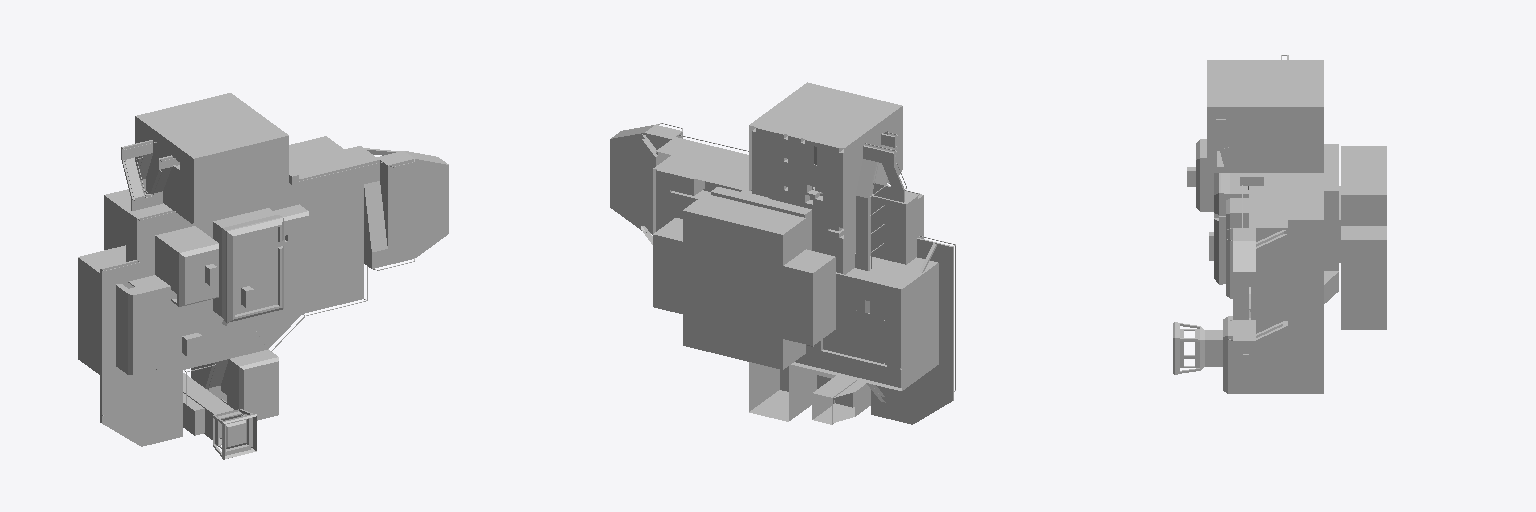
The model's file is Oil Rig.obj.
3 views of the same model, side by side, from view 1: azimuth 30°, elevation 25°; view 2: azimuth 150°, elevation 25°; view 3: azimuth 270°, elevation 25° (orthographic).
Parts seen in each view (by area): view 1: BSP_Object.model_0; view 2: BSP_Object.model_0, BSP_Object.model_3, BSP_Object.model_5, BSP_Object.model_4; view 3: BSP_Object.model_0, BSP_Object.model_4, BSP_Object.model_3.
Part boxes in pixels (x1,y1,x2,y2): BSP_Object.model_0: (78, 93, 448, 459); BSP_Object.model_0: (610, 82, 955, 424); BSP_Object.model_3: (683, 201, 796, 369); BSP_Object.model_5: (783, 261, 826, 345); BSP_Object.model_4: (653, 224, 682, 313); BSP_Object.model_0: (1173, 55, 1386, 393); BSP_Object.model_4: (1360, 226, 1386, 312); BSP_Object.model_3: (1360, 146, 1386, 329).
Bounding box in the file's own units: 68.4 × 56.8 × 37.3.